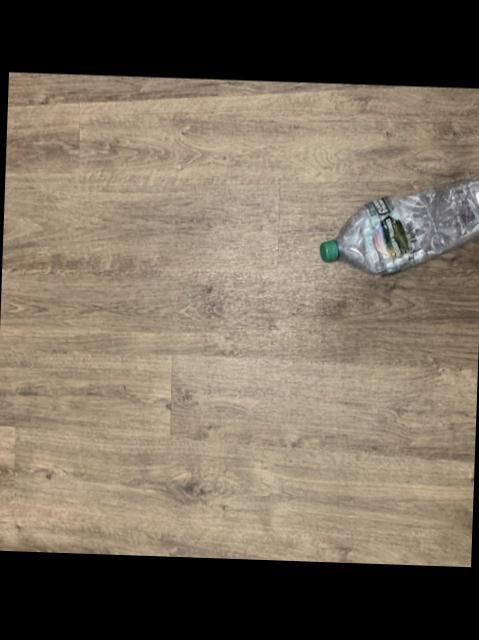plastic: (317, 176, 479, 276)
